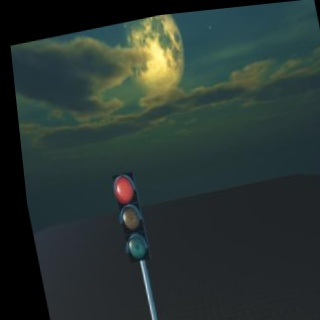sinalRed: (106, 166, 160, 270)
